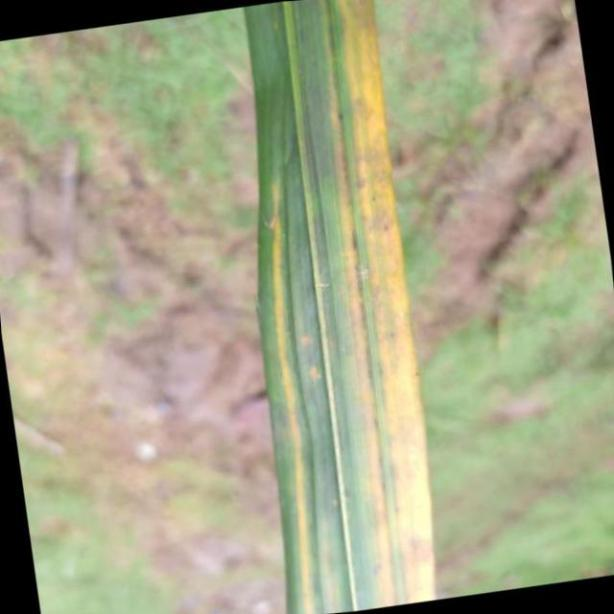Megnesium: (242, 0, 436, 614)
